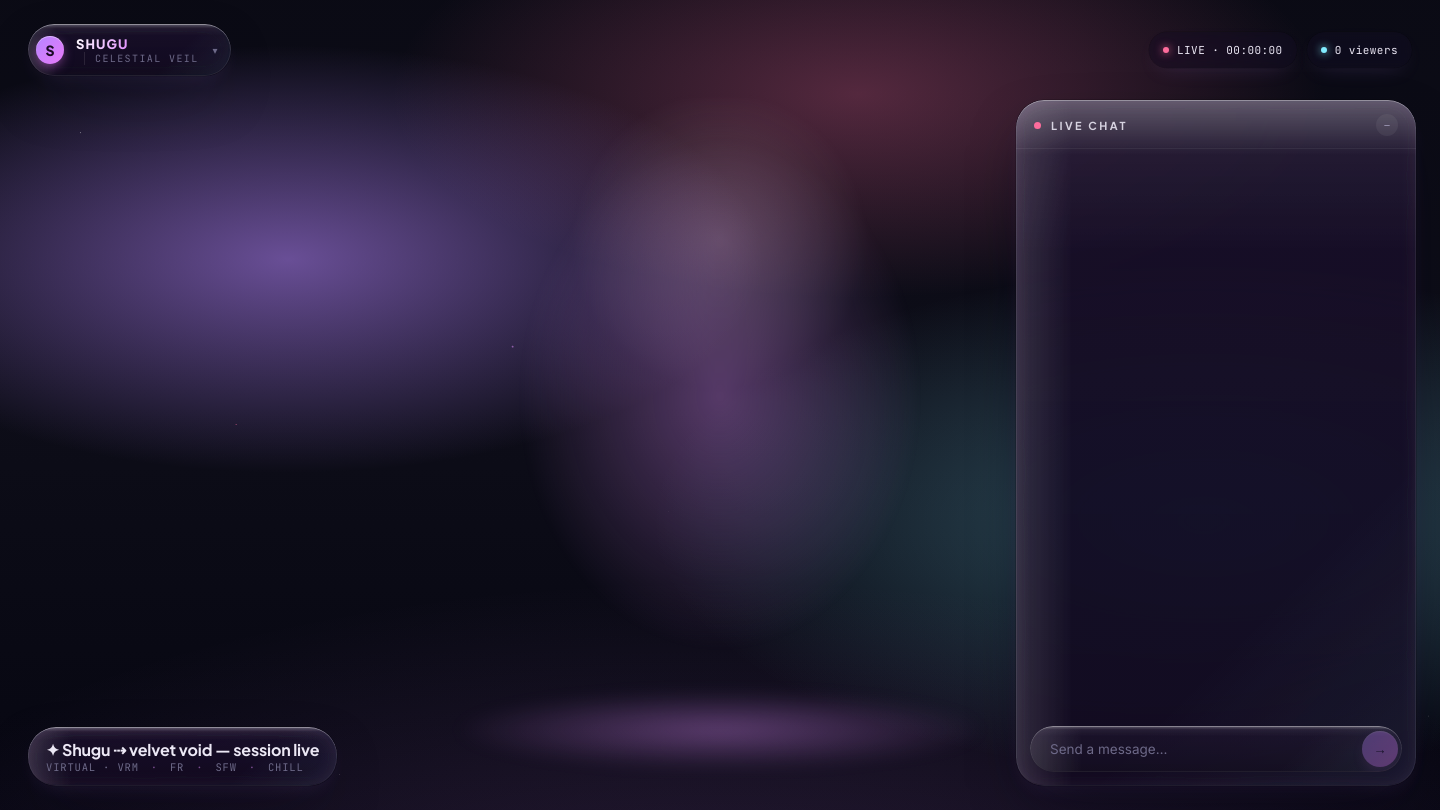
it: ViewerStage — captions toggle (U5 a11y) › renders captions toggle button with aria-pressed=false when captionsEnabled is false
The image size is (1440, 810).
// Open the brand menu first to expose brand-actions
Click the button with aria-label "ouvrir le menu compte": [129, 50] box [28,24,230,76]
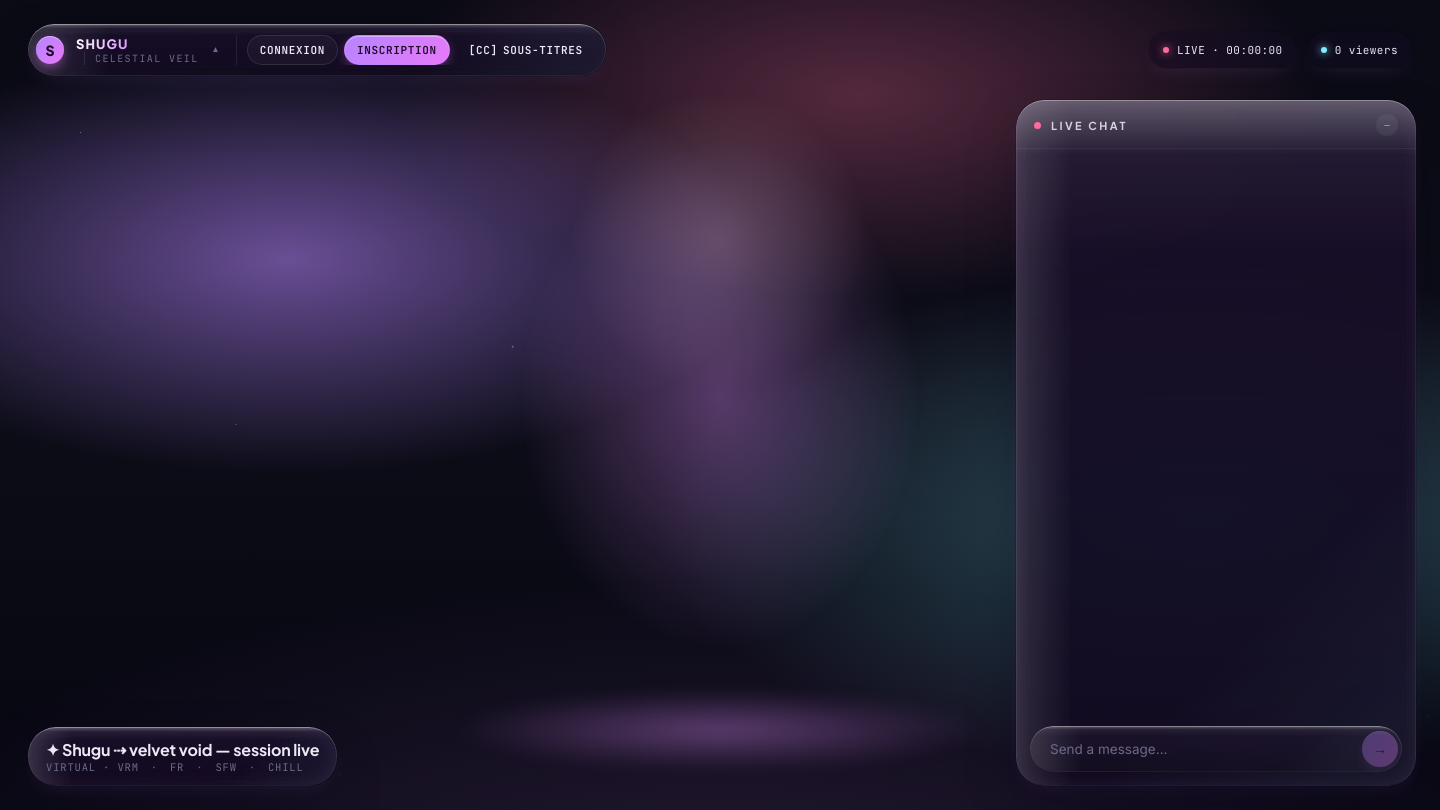
Expected: the button with aria-label "activer les sous-titres" is shown, [456,35,596,65]
